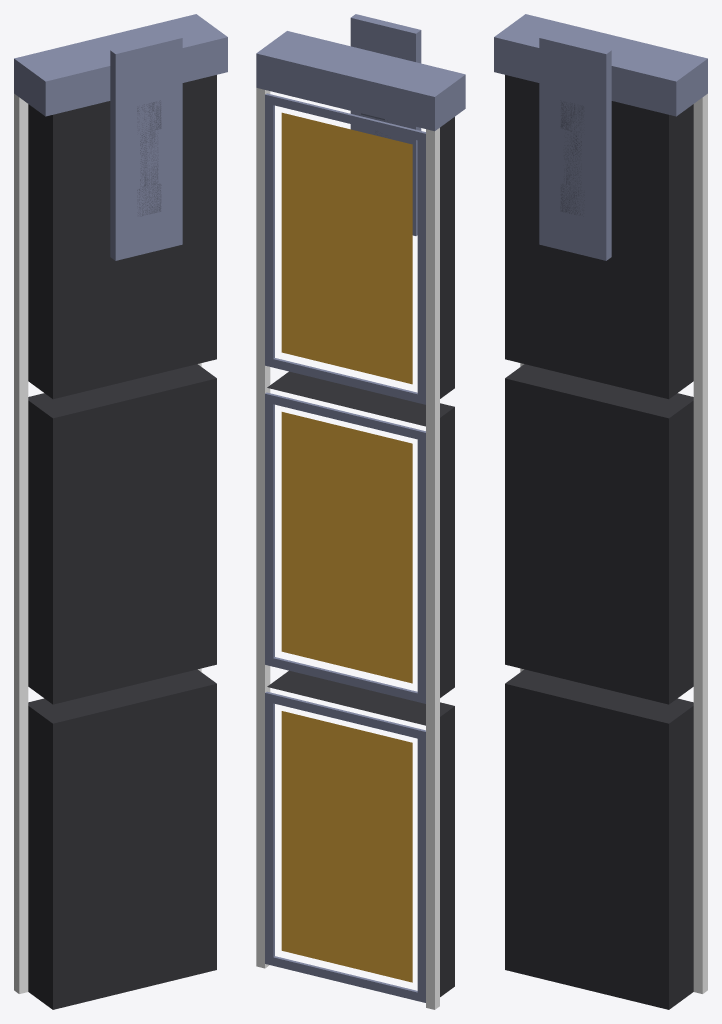
The model's file is enseigne-neon-verticale.glb.
3 renders of one model, left to right at view 1: azimuth 30°, elevation 25°; view 2: azimuth 150°, elevation 25°; view 3: azimuth 330°, elevation 25°, orthographic. The views are drawn at different scales.
Parts seen in each view (by area): view 1: enseigne-neon-verticale; view 2: enseigne-neon-verticale-lumiere, enseigne-neon-verticale; view 3: enseigne-neon-verticale.
Boxes of the visible parts, x1,y1,x2,y2 form: enseigne-neon-verticale: [14, 14, 227, 1009]; enseigne-neon-verticale-lumiere: [281, 112, 412, 982]; enseigne-neon-verticale: [256, 14, 465, 1009]; enseigne-neon-verticale: [494, 14, 707, 1009].
Size of the model in its own units: 1.2 by 6 by 0.5.
2 materials, 2 textured.
